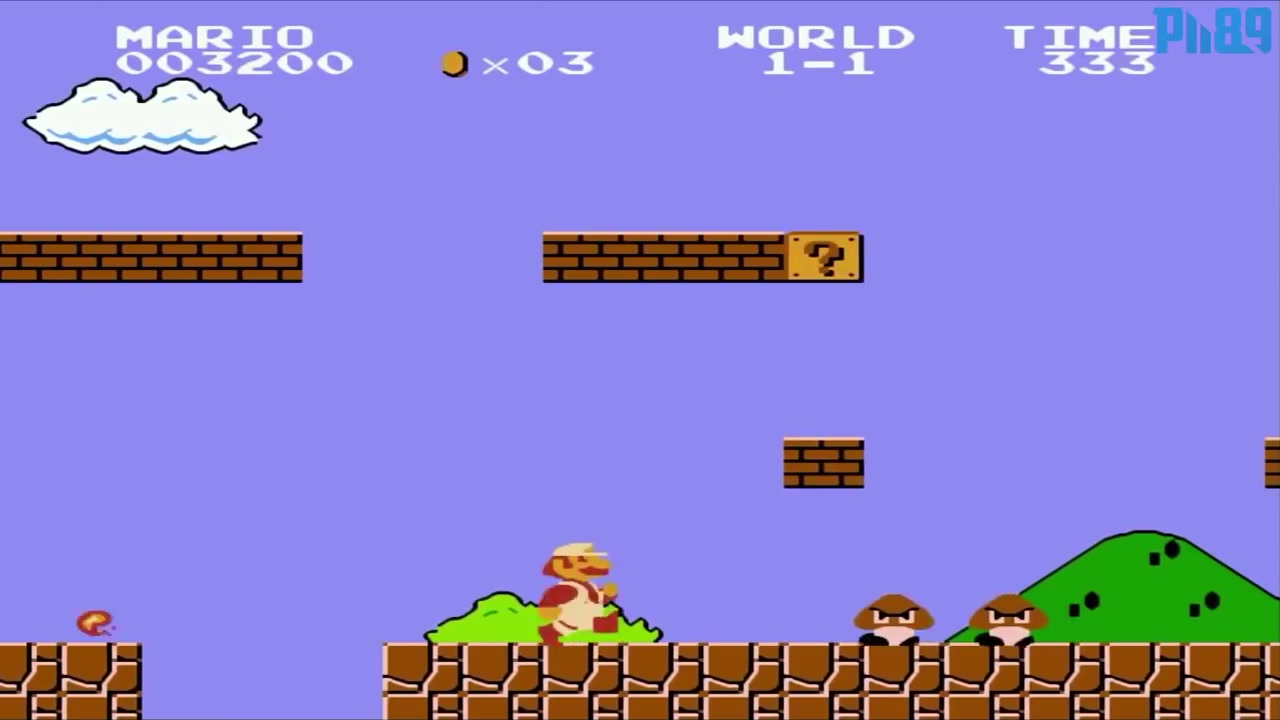mario: (533, 535, 629, 654)
